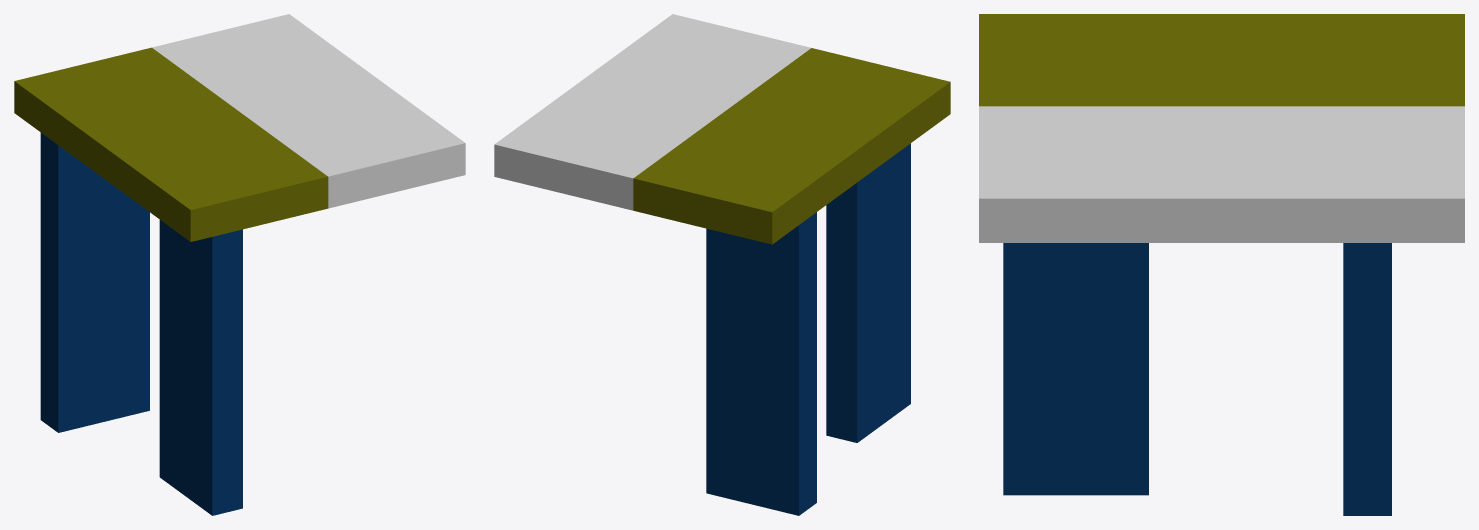
File: T2DirL.fbx
The picture shows the model from 3 angles, left to right: view 1: azimuth 30°, elevation 25°; view 2: azimuth 150°, elevation 25°; view 3: azimuth 270°, elevation 25°; orthographic projection. The views are drawn at different scales.
Visible parts, largest first — view 1: 4, 3, 1, 2; view 2: 4, 3, 2, 1; view 3: 3, 4, 1, 2.
Part boxes in pixels (x1,y1,x2,y2): 4: (14,47,239,432); 3: (102,112,328,515); 1: (240,78,465,208); 2: (152,14,376,111); 4: (633,113,861,515); 3: (723,48,950,442); 2: (494,79,721,210); 1: (584,14,810,112); 3: (979,14,1221,495); 4: (1222,14,1464,515); 1: (979,106,1221,242); 2: (1222,106,1464,242).
Size of the model in its own units: 180 by 200 by 200.
